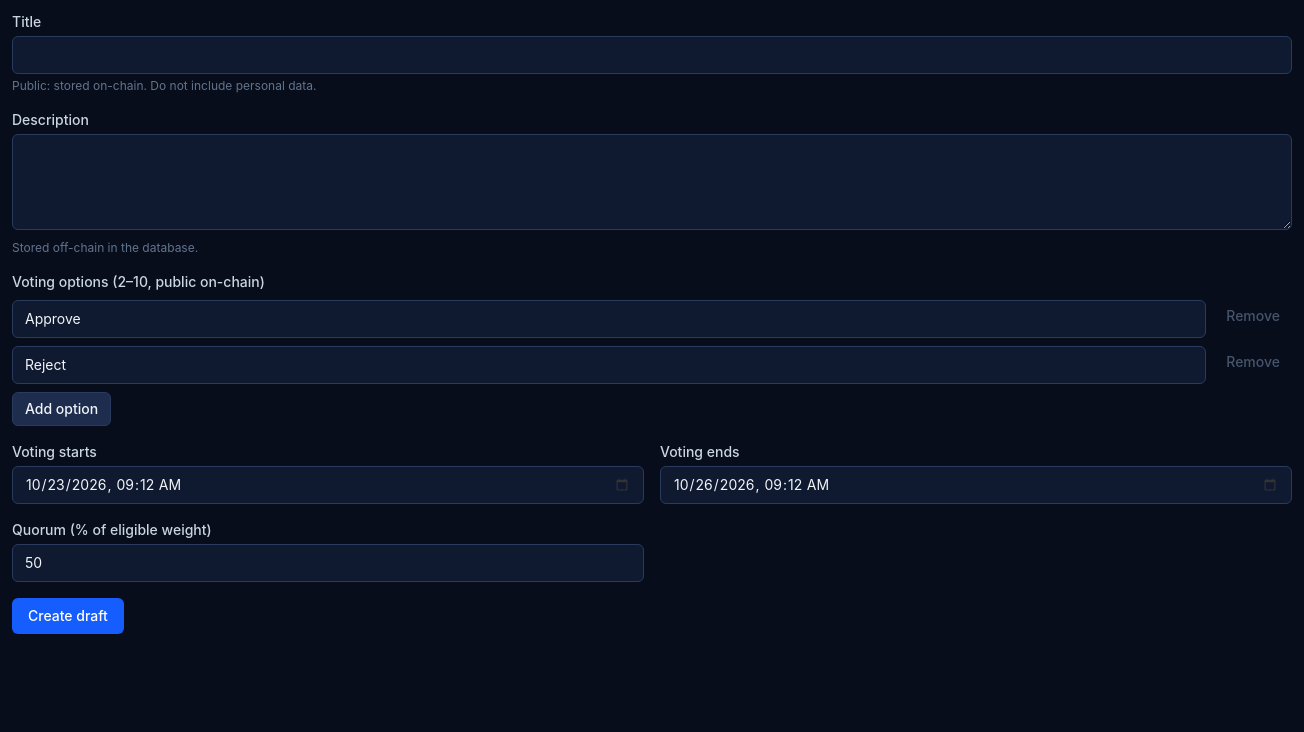
Test case: ElectionForm validation › requires a title
Step 1. Click the button "Create draft" → (68, 616), box [12,598,124,634]
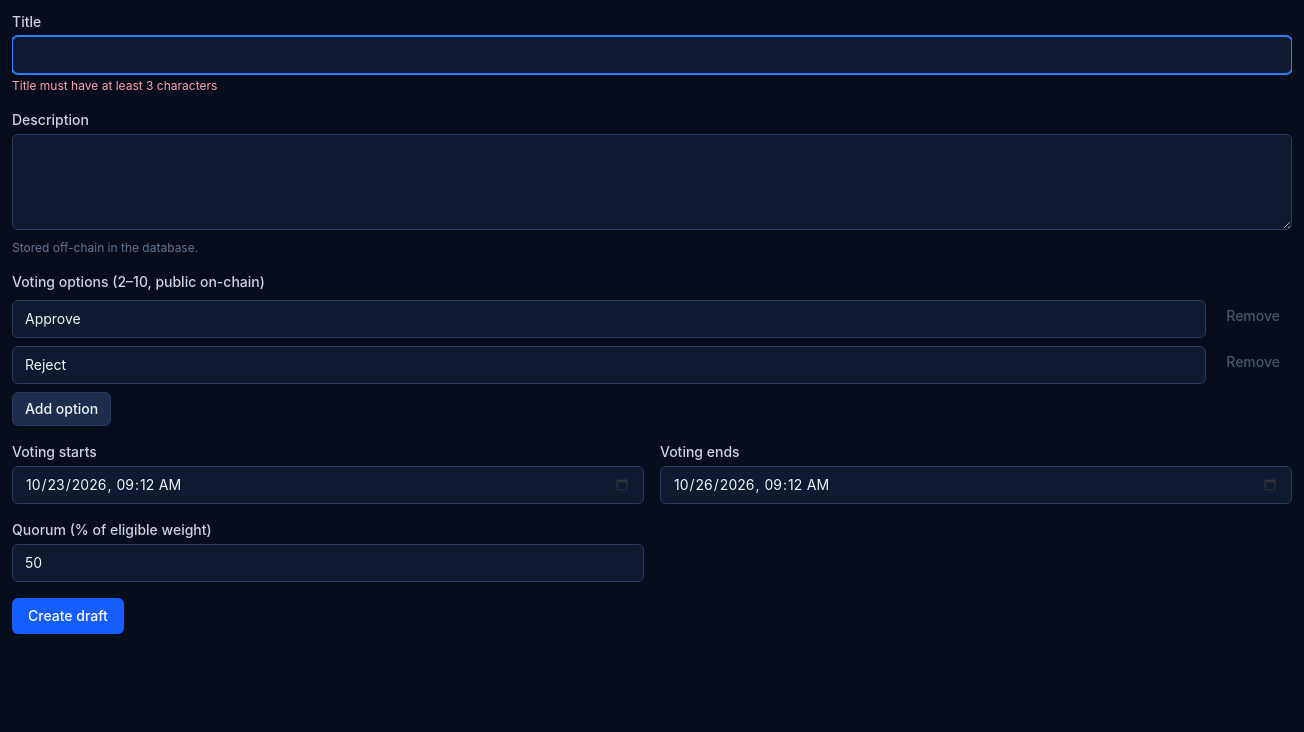
Expected: the text "Title must have at least 3 characters" is shown, [12,78,217,93]
